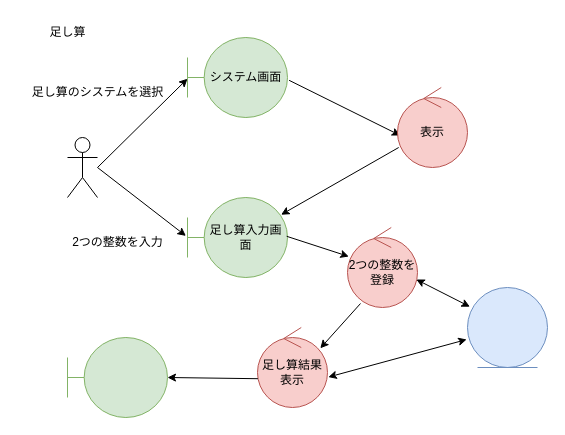
The diagram is 565 pixels wide and 435 high, and some of its shapes have lost their labels. The shapes that lost their labels are listed below. From the top down, each one's centre as x and y in pixels, then its label:
At [82,167]: "ユーザ".
At [507,327]: "RoboDog".
At [117,377]: "足し算結果表示画面".
